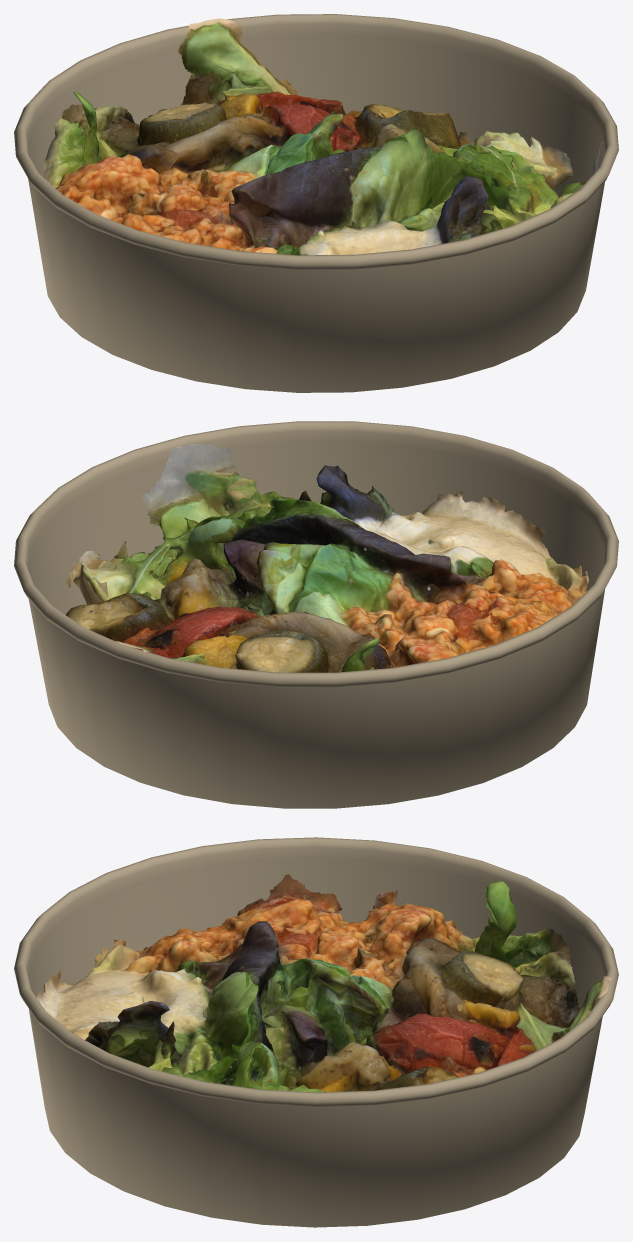
File: convenient_salad.glb
The picture shows the model from 3 angles, top to bottom: view 1: azimuth 30°, elevation 25°; view 2: azimuth 150°, elevation 25°; view 3: azimuth 270°, elevation 25°; orthographic projection.
Visible parts, largest first — view 1: Circle, Lowpoly; view 2: Circle, Lowpoly; view 3: Circle, Lowpoly.
Part boxes in pixels (x1,y1,x2,y2): Circle: (14, 14, 618, 392); Lowpoly: (42, 18, 602, 255); Circle: (14, 421, 618, 808); Lowpoly: (66, 444, 588, 672); Circle: (14, 837, 618, 1227); Lowpoly: (36, 874, 611, 1092).
Size of the model in its own units: 0.2779 by 0.0819 by 0.2779.
2 materials, 1 textured.
